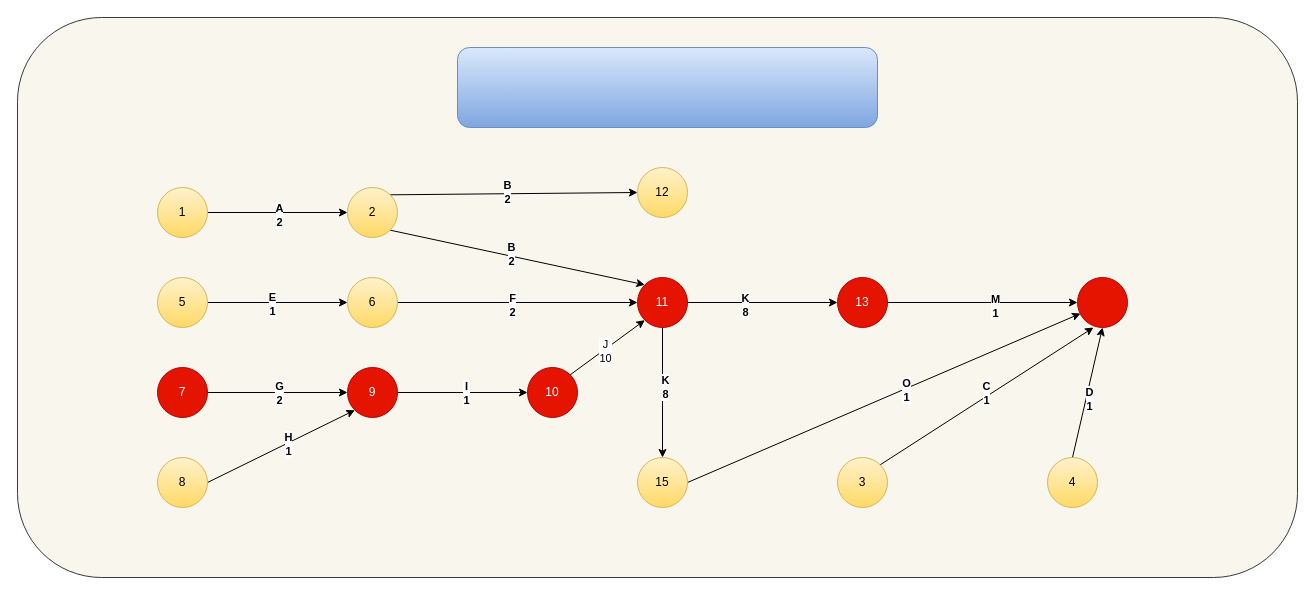
Image size: 1315x595. Some labels were removed from this diagram. The centre of each missing label's shape, as x and y in pixels:
"CPM - LEKA" goes at (x=667, y=87).
"Fim" goes at (x=1102, y=302).
